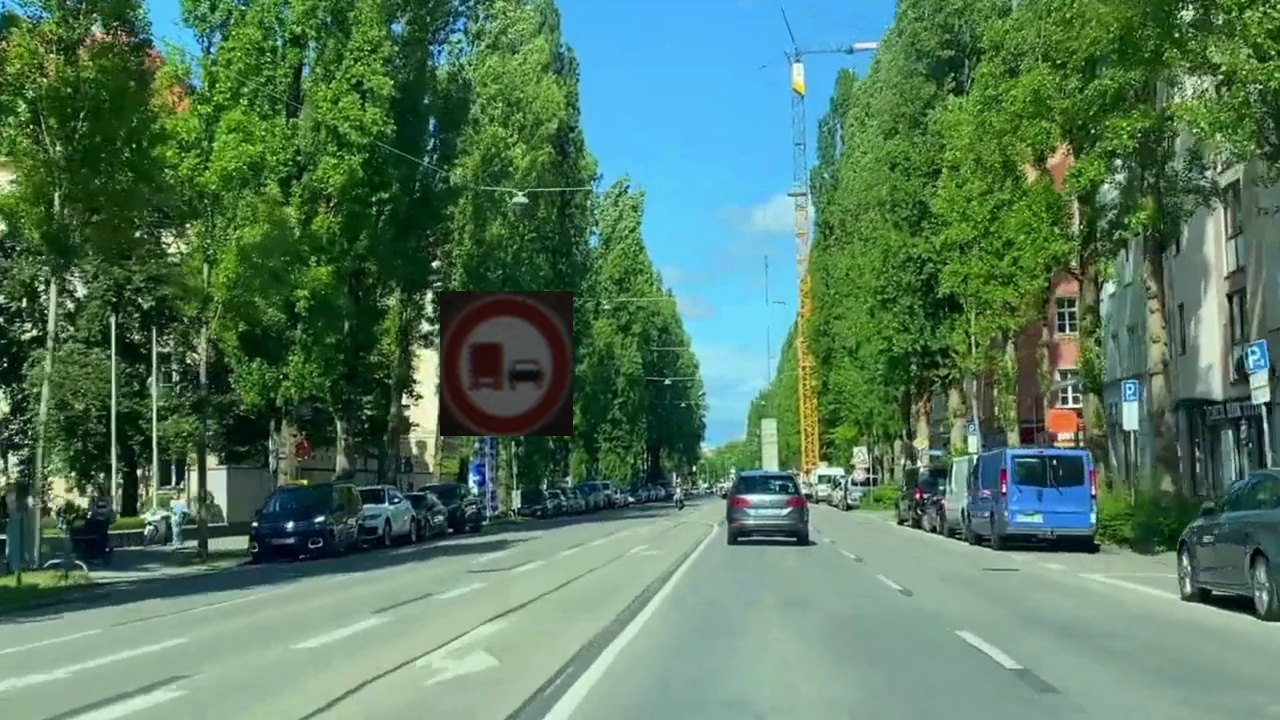No pass >3.5t: (440, 291, 573, 436)
